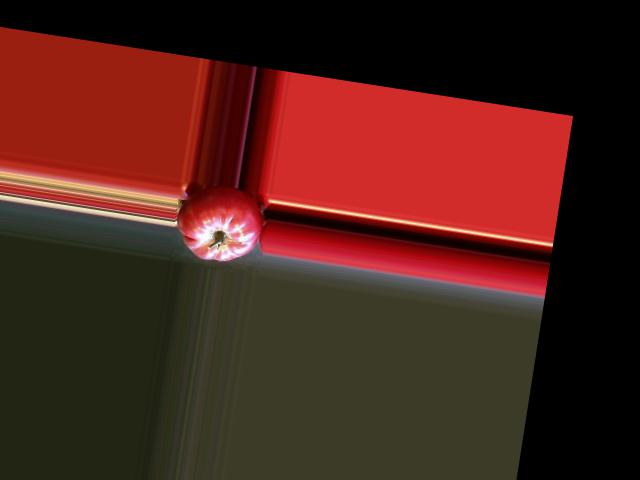tomato: (171, 178, 267, 266)
